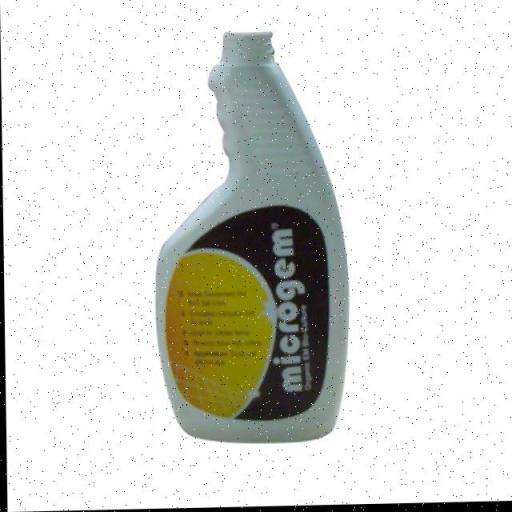plastic: (155, 34, 348, 443)
